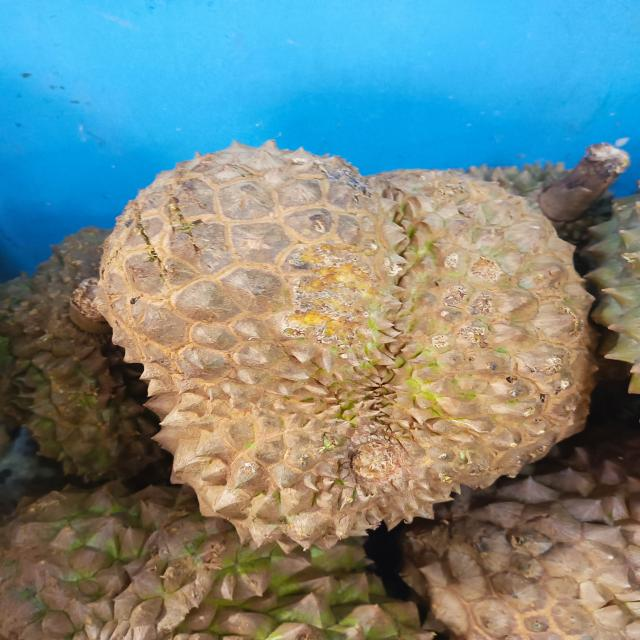mature: (95, 146, 581, 525), (0, 483, 432, 640), (412, 461, 640, 640), (1, 289, 172, 492)
